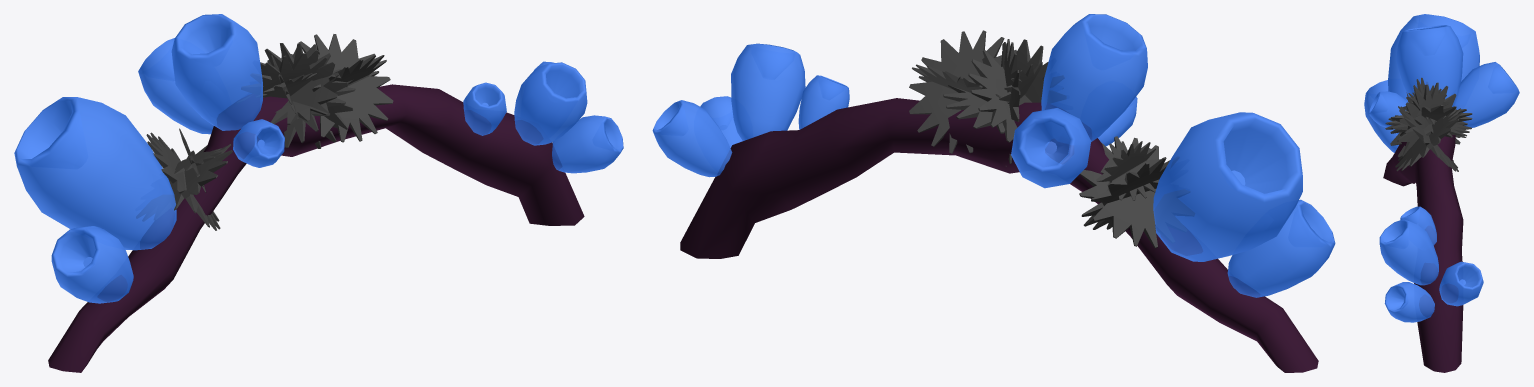
File: final_flora_winston.fbx
The picture shows the model from 3 angles, left to right: view 1: azimuth 30°, elevation 25°; view 2: azimuth 150°, elevation 25°; view 3: azimuth 270°, elevation 25°; orthographic projection. The views are drawn at different scales.
Parts seen in each view (by area): view 1: pCube13; view 2: pCube13; view 3: pCube13.
Part boxes in pixels (left/top/right/bottom): pCube13: left=14, top=14, right=623, bottom=372; pCube13: left=652, top=14, right=1335, bottom=372; pCube13: left=1364, top=14, right=1519, bottom=372.
Size of the model in its own units: 41.41 by 19.88 by 13.15.
